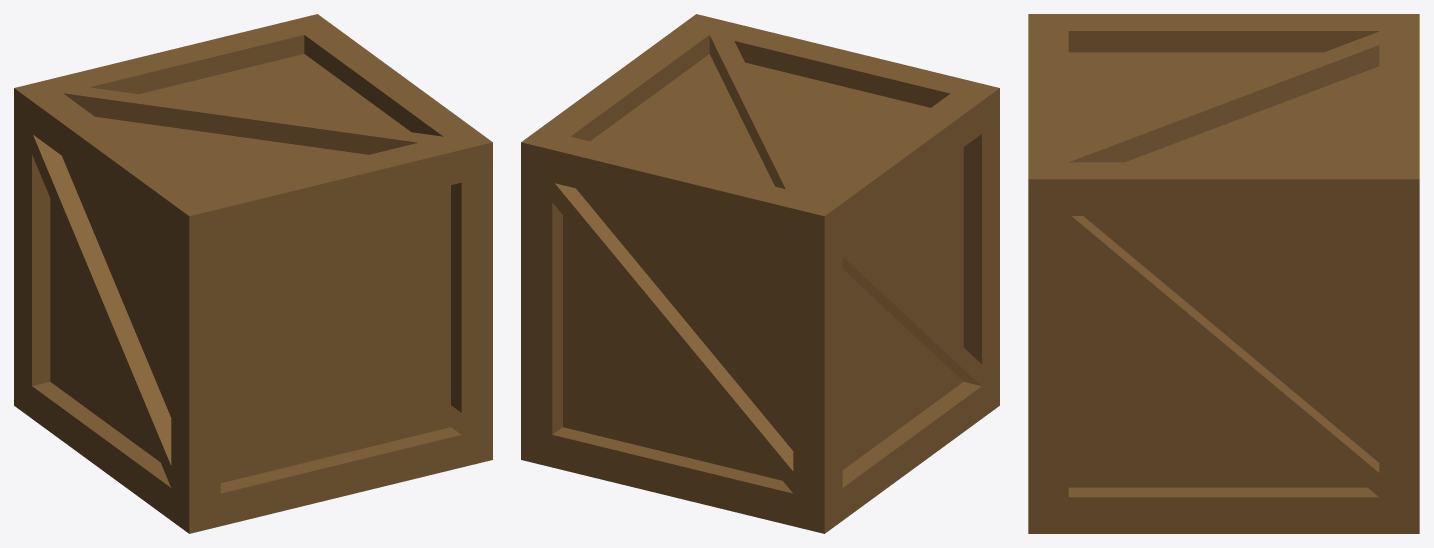
The model's file is Caja.glb.
3 renders of one model, left to right at view 1: azimuth 30°, elevation 25°; view 2: azimuth 150°, elevation 25°; view 3: azimuth 270°, elevation 25°, orthographic. The views are drawn at different scales.
Parts seen in each view (by area): view 1: Cube; view 2: Cube; view 3: Cube.
Boxes of the visible parts, bbox=[...] form: Cube: bbox=[14, 14, 492, 533]; Cube: bbox=[521, 14, 999, 533]; Cube: bbox=[1028, 14, 1419, 533].
Bounding box in the file's own units: 2 × 2 × 2.
